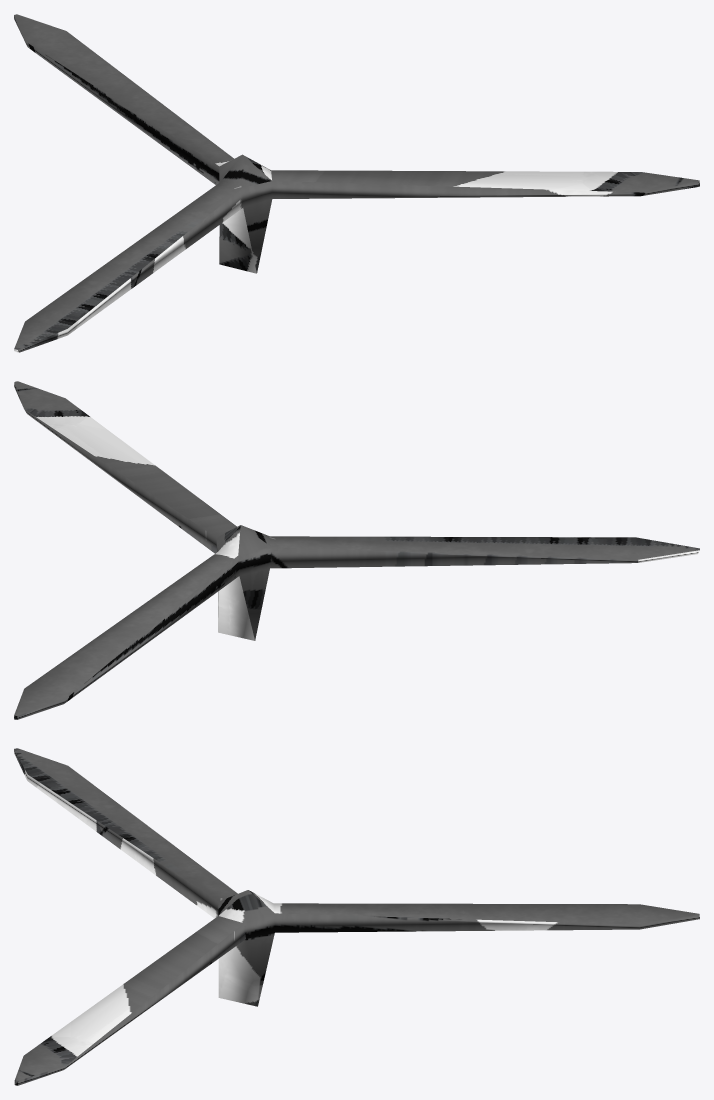
Rendered from helice_gauche.obj.
3 renders of one model, top to bottom at view 1: azimuth 30°, elevation 25°; view 2: azimuth 150°, elevation 25°; view 3: azimuth 270°, elevation 25°, orthographic.
Parts seen in each view (by area): view 1: helice_G retopo; view 2: helice_G retopo; view 3: helice_G retopo.
Part boxes in pixels (left/top/right/bottom): helice_G retopo: left=14, top=14, right=699, bottom=352; helice_G retopo: left=14, top=381, right=699, bottom=719; helice_G retopo: left=14, top=748, right=699, bottom=1085.
Bounding box in the file's own units: 10.13 × 1.53 × 8.79.
1 material, 1 textured.
